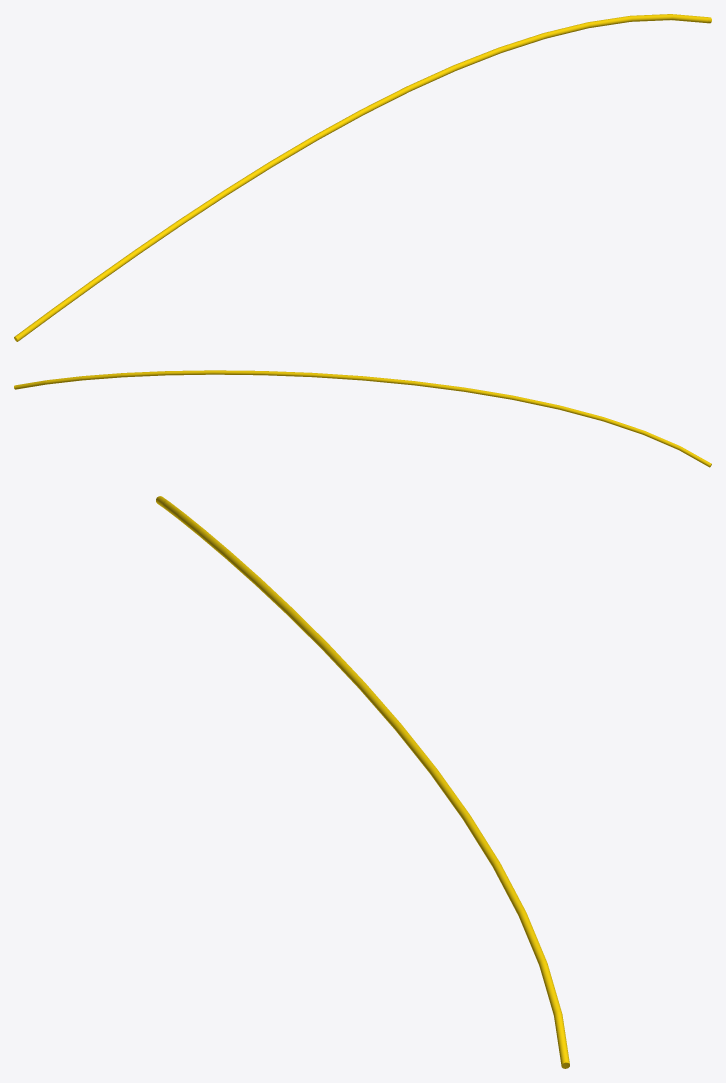
The model's file is Event_421364160_track_48.fbx.
3 renders of one model, top to bottom at view 1: azimuth 30°, elevation 25°; view 2: azimuth 150°, elevation 25°; view 3: azimuth 270°, elevation 25°, orthographic. The views are drawn at different scales.
Visible parts, largest first — view 1: Model; view 2: Model; view 3: Model.
Part boxes in pixels (left/top/right/bottom): Model: left=14, top=14, right=711, bottom=341; Model: left=14, top=370, right=711, bottom=467; Model: left=156, top=496, right=569, bottom=1068.
Bounding box in the file's own units: 6.31 × 0.565 × 1.9.
